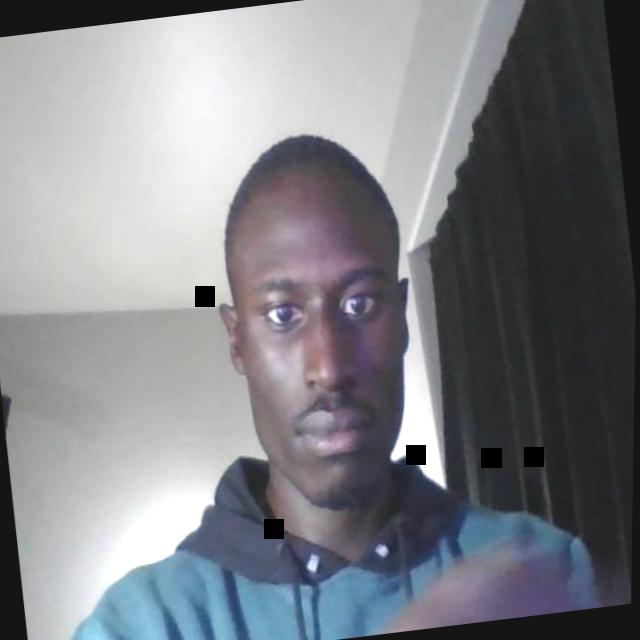NO-Mask: (225, 208, 431, 522)
